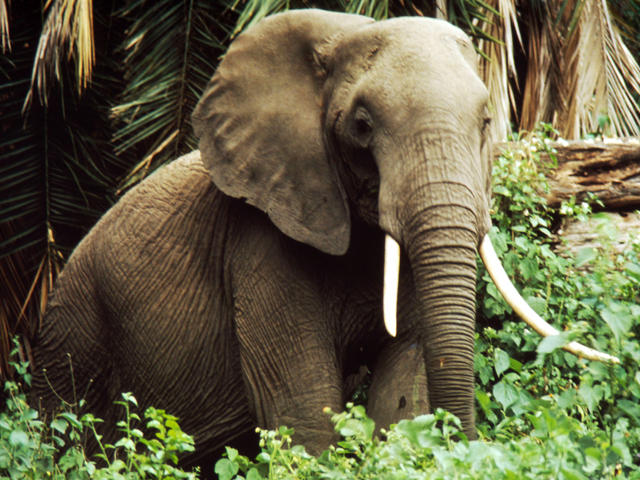elephant: (32, 5, 622, 474)
